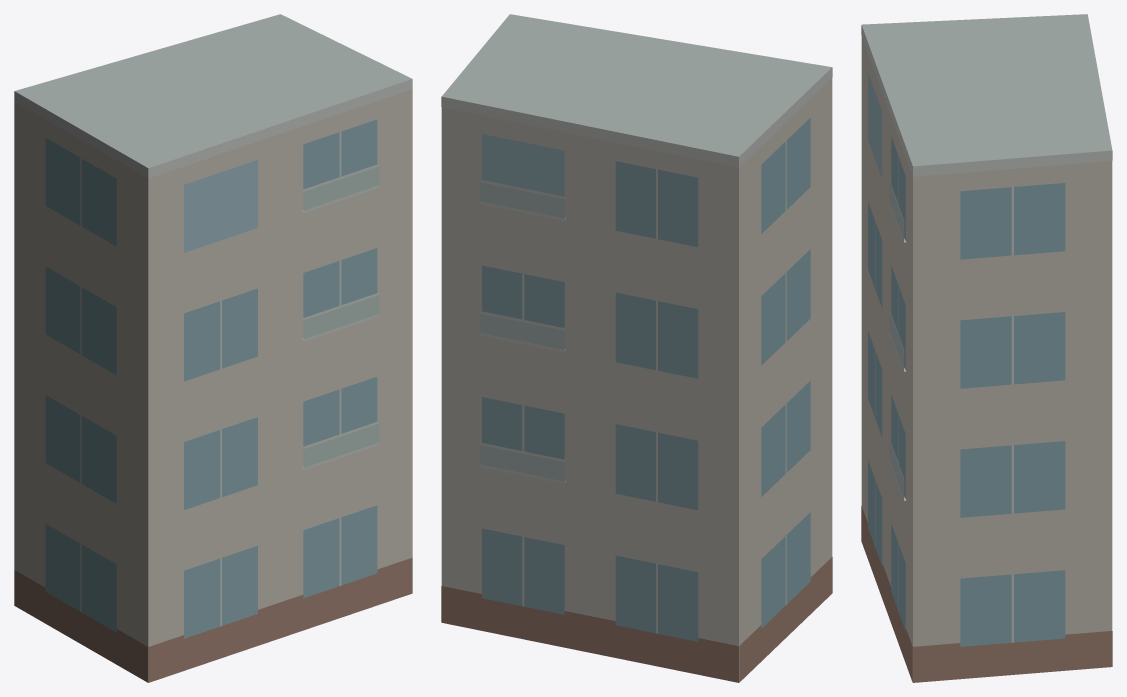
File: survey-upis-33020552.glb
The picture shows the model from 3 angles, left to right: view 1: azimuth 30°, elevation 25°; view 2: azimuth 150°, elevation 25°; view 3: azimuth 270°, elevation 25°; orthographic projection. The views are drawn at different scales.
Parts seen in each view (by area): view 1: survey-upis-33020552.tmp; view 2: survey-upis-33020552.tmp; view 3: survey-upis-33020552.tmp.
Part boxes in pixels (box(x1,y1,x2,y2)): survey-upis-33020552.tmp: box(14, 14, 412, 682); survey-upis-33020552.tmp: box(441, 14, 832, 682); survey-upis-33020552.tmp: box(861, 14, 1112, 682).
Size of the model in its own units: 7.73 by 12.2 by 5.39.
